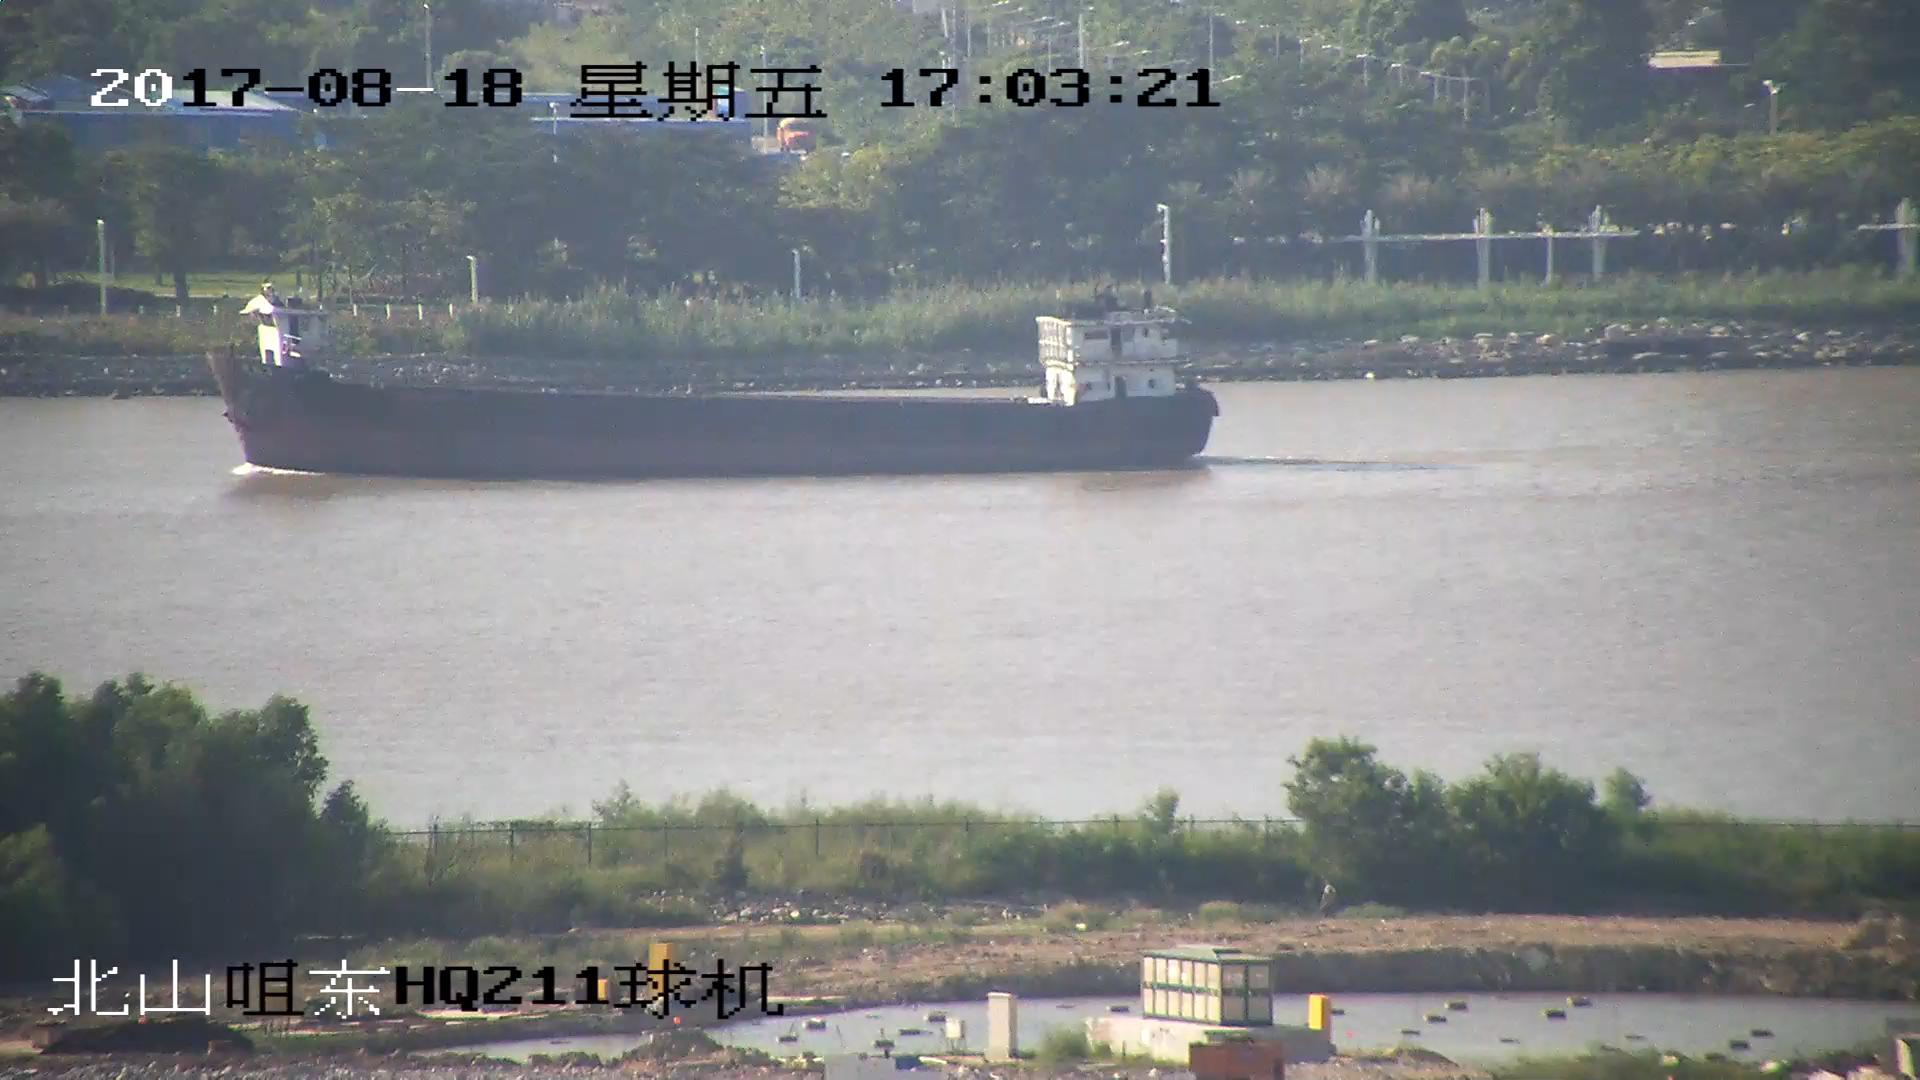Ship: (200, 287, 1224, 473)
